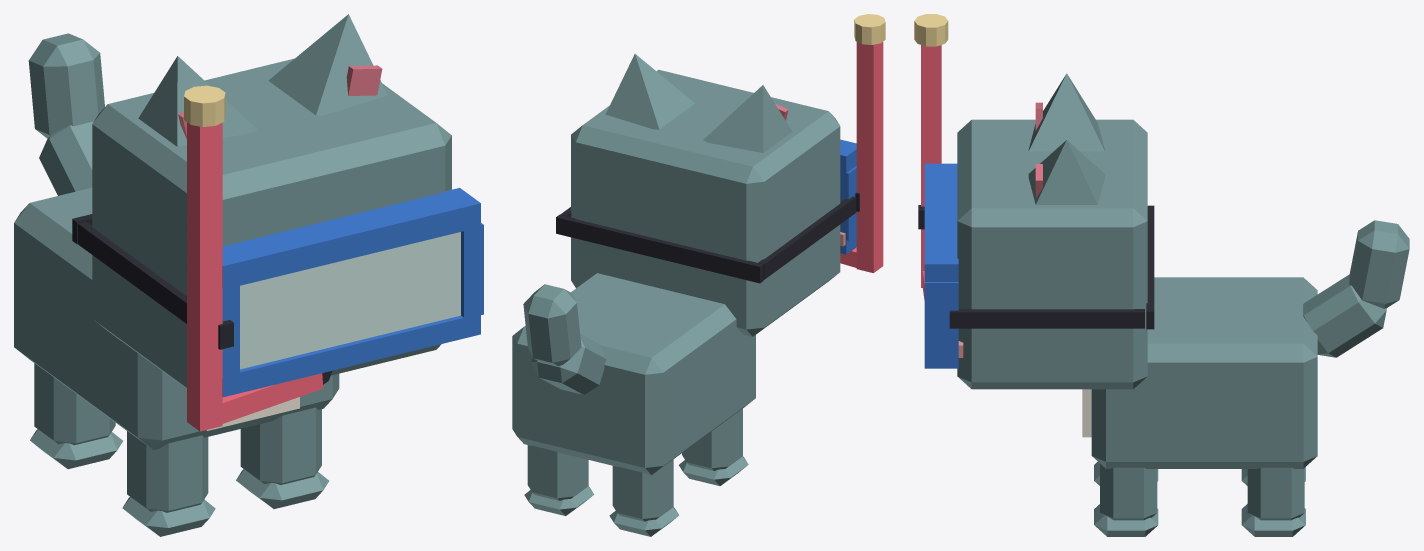
The model's file is CatCafe_Cat_Glimmer.glb.
3 renders of one model, left to right at view 1: azimuth 30°, elevation 25°; view 2: azimuth 150°, elevation 25°; view 3: azimuth 270°, elevation 25°, orthographic. The views are drawn at different scales.
Visible parts, largest first — view 1: CatCafe_Cat_Glimmer_Head, CatCafe_Cat_Glimmer_Prop, CatCafe_Cat_Glimmer_Body, CatCafe_Cat_Glimmer_Prop_Glass, CatCafe_Cat_Glimmer_Tail, CatCafe_Cat_Glimmer_LegF2, CatCafe_Cat_Glimmer_LegF1, CatCafe_Cat_Glimmer_EarL, CatCafe_Cat_Glimmer_LegB2, CatCafe_Cat_Glimmer_EarR; view 2: CatCafe_Cat_Glimmer_Head, CatCafe_Cat_Glimmer_Body, CatCafe_Cat_Glimmer_Prop, CatCafe_Cat_Glimmer_Tail, CatCafe_Cat_Glimmer_LegB2, CatCafe_Cat_Glimmer_EarL, CatCafe_Cat_Glimmer_LegB1, CatCafe_Cat_Glimmer_EarR, CatCafe_Cat_Glimmer_LegF2; view 3: CatCafe_Cat_Glimmer_Head, CatCafe_Cat_Glimmer_Body, CatCafe_Cat_Glimmer_Prop, CatCafe_Cat_Glimmer_Tail, CatCafe_Cat_Glimmer_LegF1, CatCafe_Cat_Glimmer_LegB1, CatCafe_Cat_Glimmer_EarR, CatCafe_Cat_Glimmer_EarL.
Part boxes in pixels (x1,y1,x2,y2): CatCafe_Cat_Glimmer_Head: (92,58,451,388); CatCafe_Cat_Glimmer_Prop: (72,85,483,431); CatCafe_Cat_Glimmer_Body: (14,187,339,449); CatCafe_Cat_Glimmer_Prop_Glass: (240,232,460,369); CatCafe_Cat_Glimmer_Tail: (28,33,104,195); CatCafe_Cat_Glimmer_LegF2: (122,431,215,536); CatCafe_Cat_Glimmer_LegF1: (236,407,328,508); CatCafe_Cat_Glimmer_EarL: (268,14,387,115); CatCafe_Cat_Glimmer_LegB2: (30,363,122,469); CatCafe_Cat_Glimmer_EarR: (138,56,257,146); CatCafe_Cat_Glimmer_Head: (571,69,845,336); CatCafe_Cat_Glimmer_Body: (512,273,755,475); CatCafe_Cat_Glimmer_Prop: (556,14,885,283); CatCafe_Cat_Glimmer_Tail: (523,284,606,394); CatCafe_Cat_Glimmer_LegB2: (609,459,679,536); CatCafe_Cat_Glimmer_EarL: (605,54,694,129); CatCafe_Cat_Glimmer_LegB1: (524,445,593,515); CatCafe_Cat_Glimmer_EarR: (703,85,792,152); CatCafe_Cat_Glimmer_LegF2: (679,408,748,485); CatCafe_Cat_Glimmer_Head: (957,119,1147,389); CatCafe_Cat_Glimmer_Body: (1082,277,1317,468); CatCafe_Cat_Glimmer_Prop: (914,14,1154,368); CatCafe_Cat_Glimmer_Tail: (1303,220,1409,357); CatCafe_Cat_Glimmer_LegF1: (1094,463,1158,536); CatCafe_Cat_Glimmer_LegB1: (1241,467,1305,536); CatCafe_Cat_Glimmer_EarR: (1028,73,1104,151); CatCafe_Cat_Glimmer_EarL: (1028,140,1104,204).
Bounding box in the file's own units: 1.15 × 2 × 2.08.
Materials: 1 (1 with a texture image).
